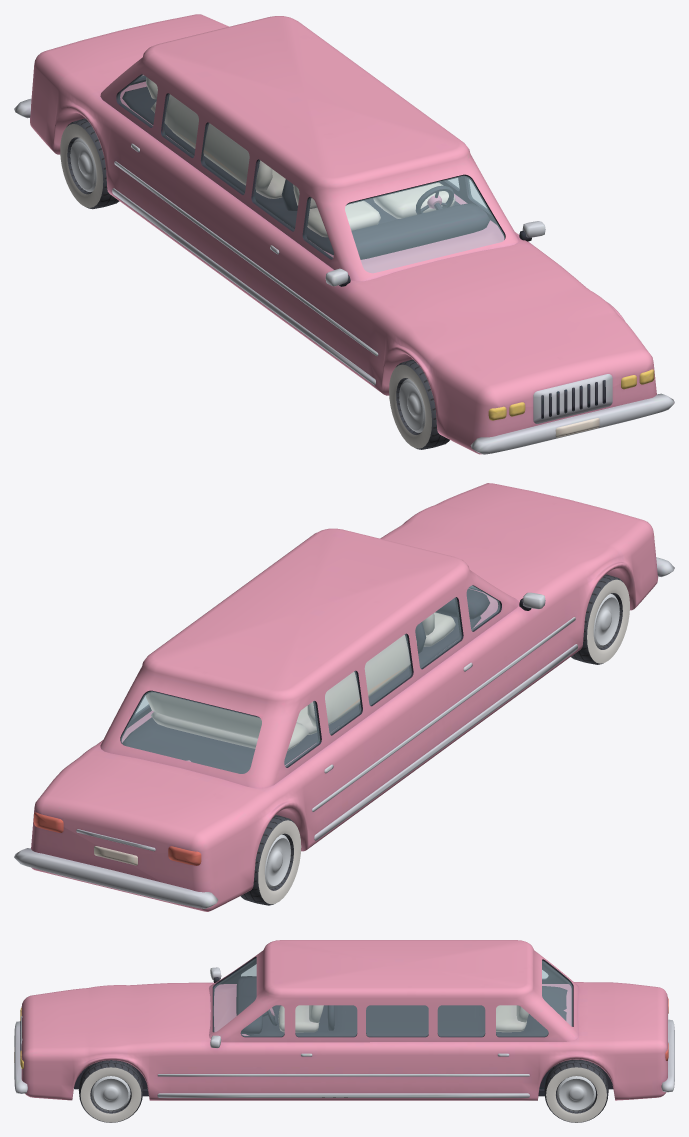
File: limo.glb
3 views of the same model, one above another, from view 1: azimuth 30°, elevation 25°; view 2: azimuth 150°, elevation 25°; view 3: azimuth 270°, elevation 25° (orthographic). The views are drawn at different scales.
Visible parts, largest first — view 1: limousine_body, limousine_windows, limousine_wheel_fr, limousine_wheel_rr; view 2: limousine_body, limousine_windows, limousine_wheel_rr, limousine_wheel_fr; view 3: limousine_body, limousine_windows, limousine_wheel_rl, limousine_wheel_fl.
Part boxes in pixels (x1=…): limousine_body: x1=14, y1=14, x2=674, y2=454; limousine_windows: x1=118, y1=74, x2=504, y2=272; limousine_wheel_fr: x1=389, y1=359, x2=449, y2=449; limousine_wheel_rr: x1=60, y1=118, x2=119, y2=209; limousine_body: x1=14, y1=483, x2=674, y2=911; limousine_windows: x1=121, y1=585, x2=499, y2=773; limousine_wheel_rr: x1=240, y1=815, x2=301, y2=905; limousine_wheel_fr: x1=571, y1=574, x2=629, y2=664; limousine_body: x1=14, y1=940, x2=674, y2=1100; limousine_windows: x1=214, y1=958, x2=572, y2=1036; limousine_wheel_rl: x1=544, y1=1059, x2=608, y2=1122; limousine_wheel_fl: x1=78, y1=1060, x2=143, y2=1122.
Bounding box in the file's own units: 1.98 × 1.55 × 7.38.
Materials: 22 (5 with a texture image).
